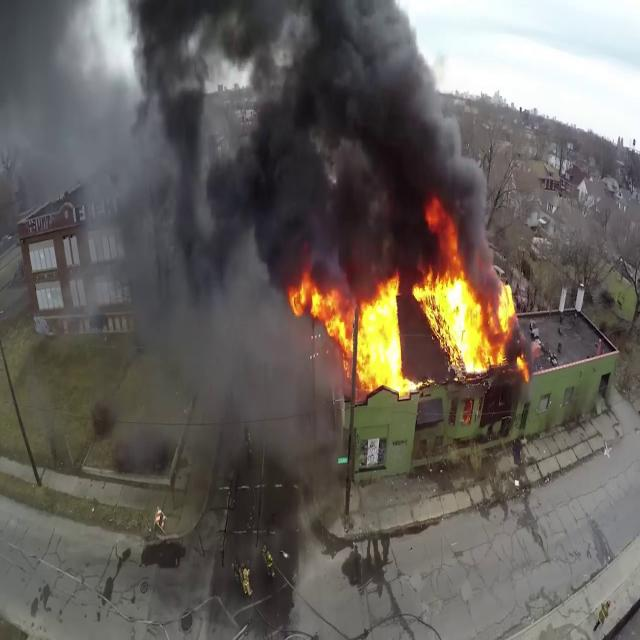Fire: (296, 255, 522, 391)
Smoke: (158, 0, 495, 229), (115, 258, 312, 497), (0, 0, 174, 229)
